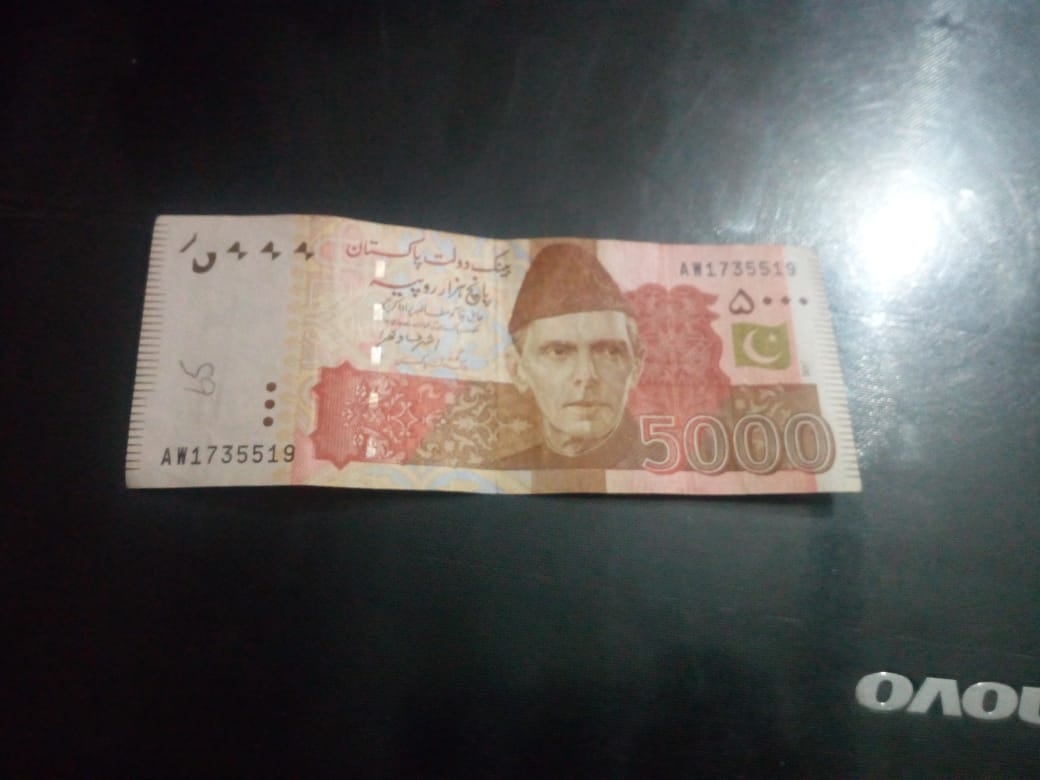5000 rupee: (105, 207, 898, 519)
